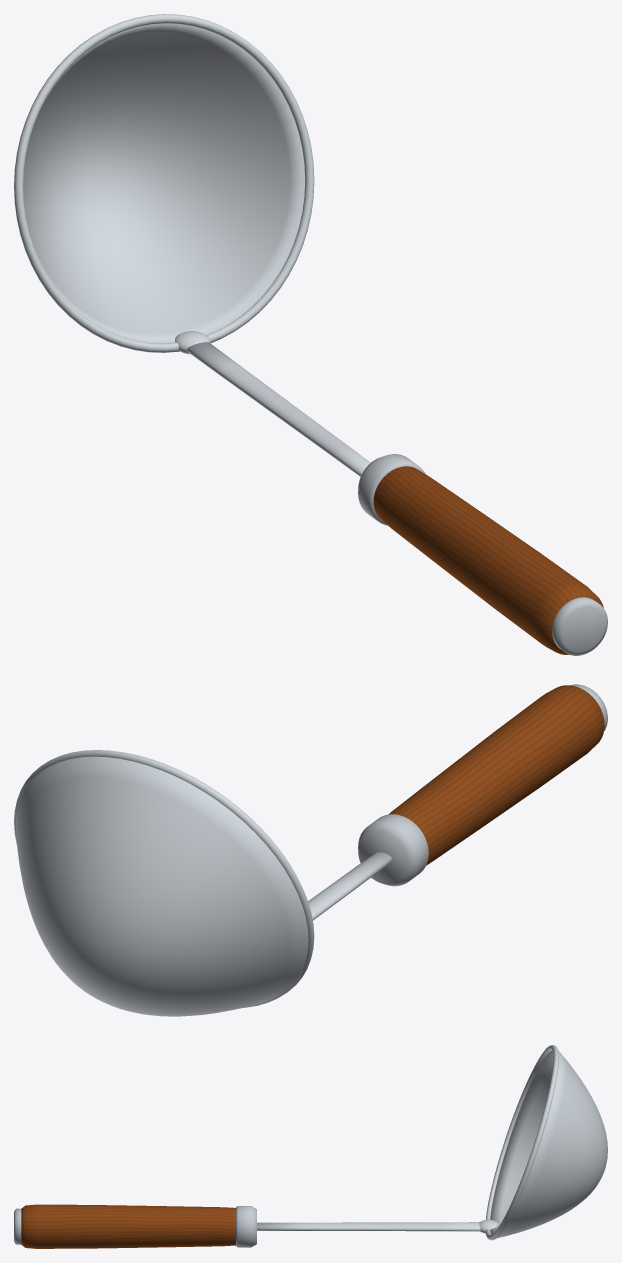
File: rice_scoop_straight_v3.glb
3 views of the same model, one above another, from view 1: azimuth 30°, elevation 25°; view 2: azimuth 150°, elevation 25°; view 3: azimuth 270°, elevation 25° (orthographic). The views are drawn at different scales.
Visible parts, largest first — view 1: RiceScoop; view 2: RiceScoop; view 3: RiceScoop.
Boxes of the visible parts, box(x1,y1,x2,y2) form: RiceScoop: box(14, 14, 607, 655); RiceScoop: box(14, 684, 607, 1016); RiceScoop: box(14, 1045, 607, 1248).
Bounding box in the file's own units: 0.1082 × 0.1115 × 0.313.
Materials: 3 (1 with a texture image).
